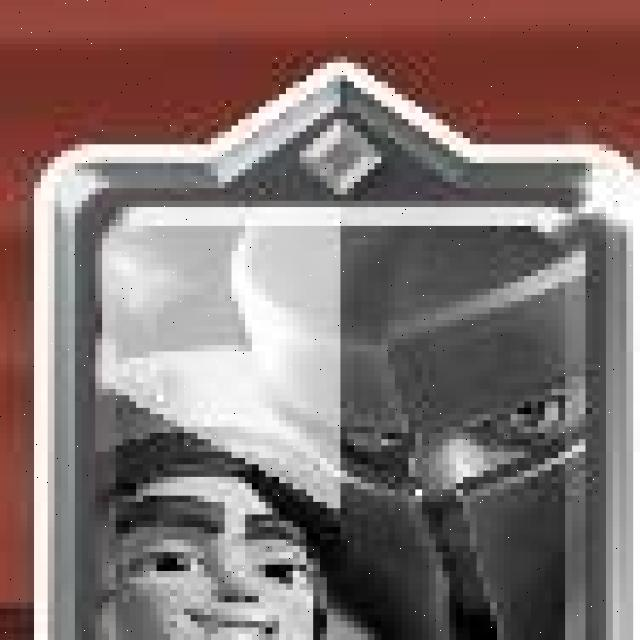Little_Prince: (39, 147, 640, 640)
